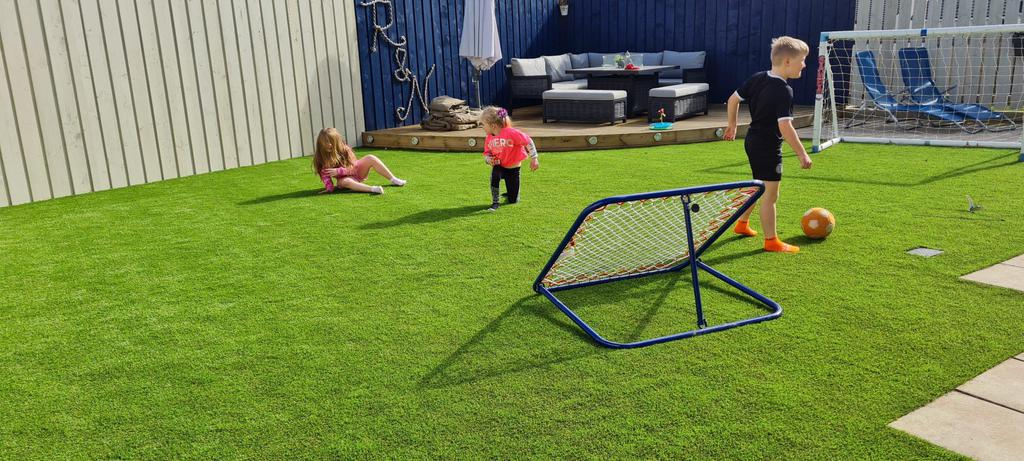child: (458, 102, 541, 213), (300, 126, 414, 202)
